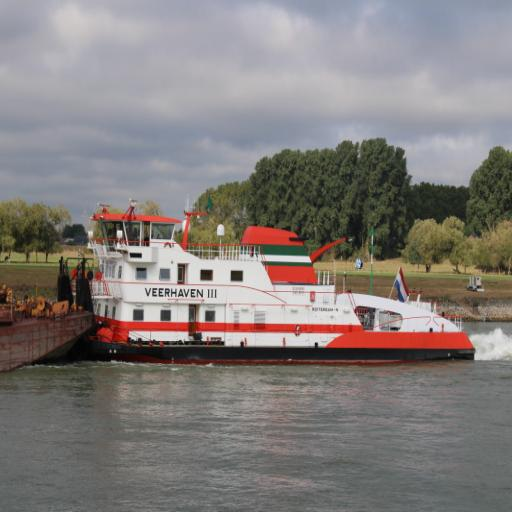tugboat: (57, 192, 480, 373)
